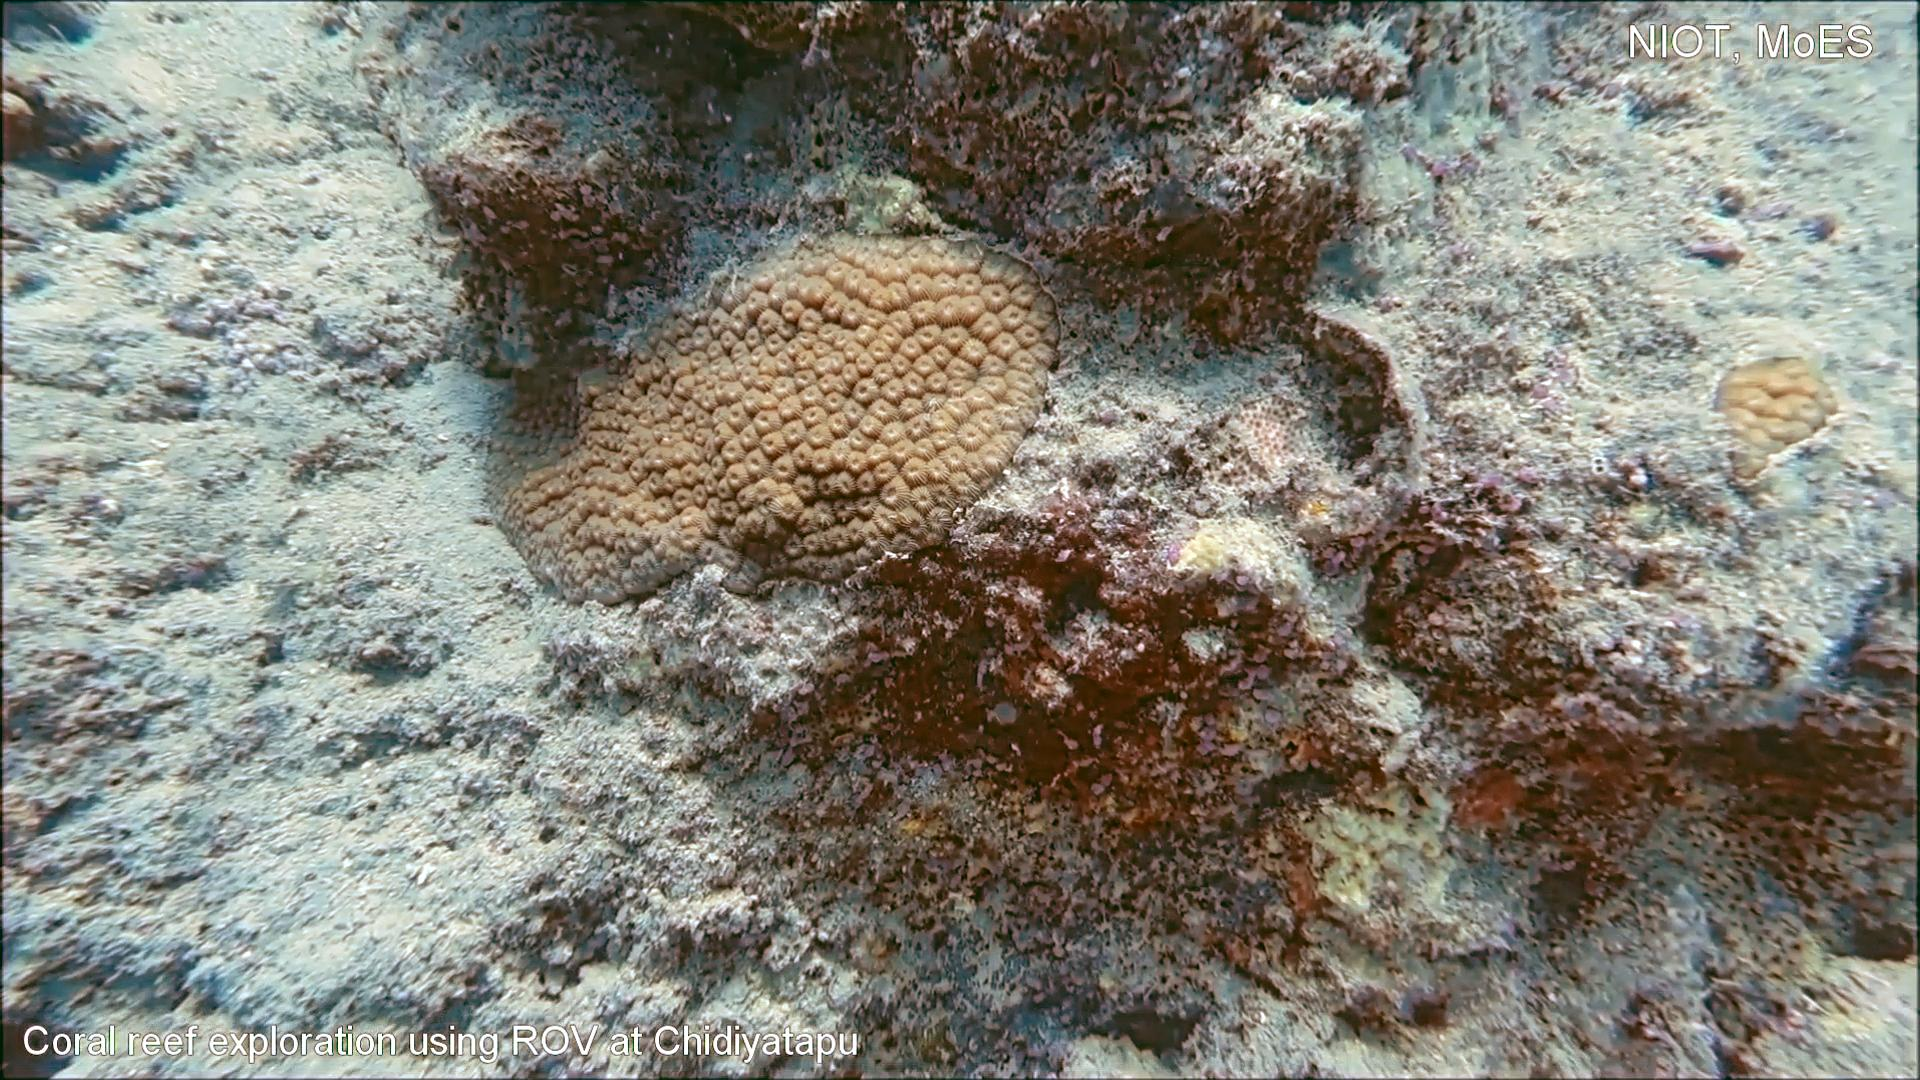Montastraea: (477, 215, 1067, 613), (1700, 343, 1846, 495)
